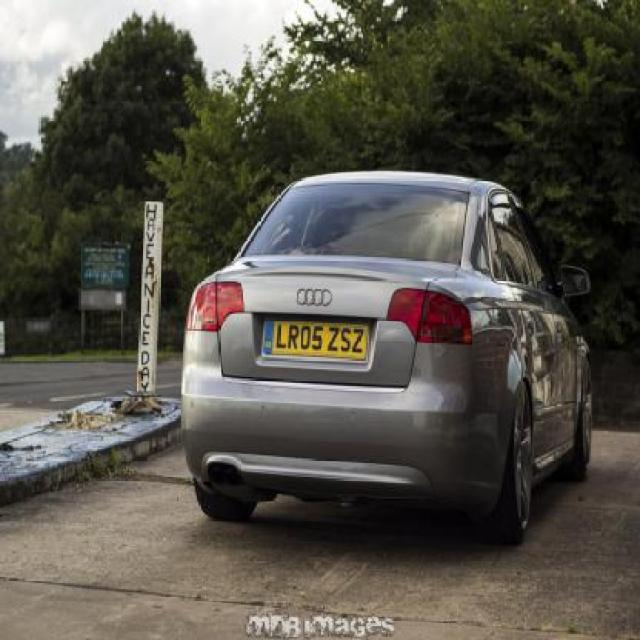License-Plates: (261, 318, 370, 360)
